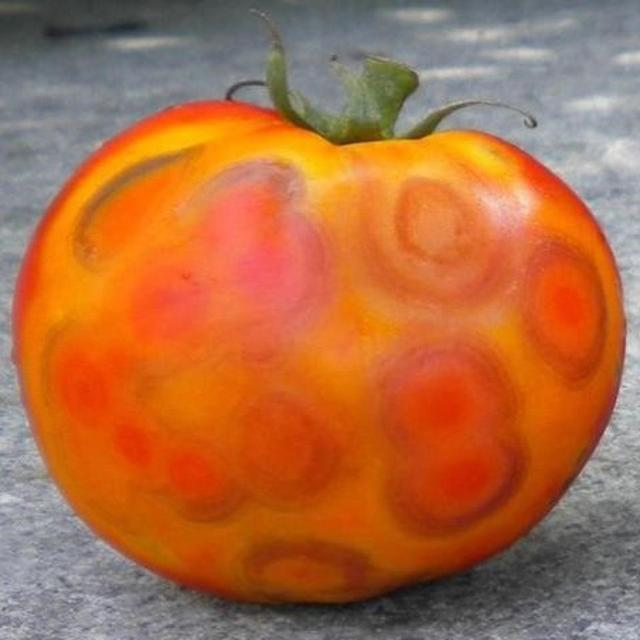Spotted wilt Virus Fruit: (8, 63, 419, 402)
